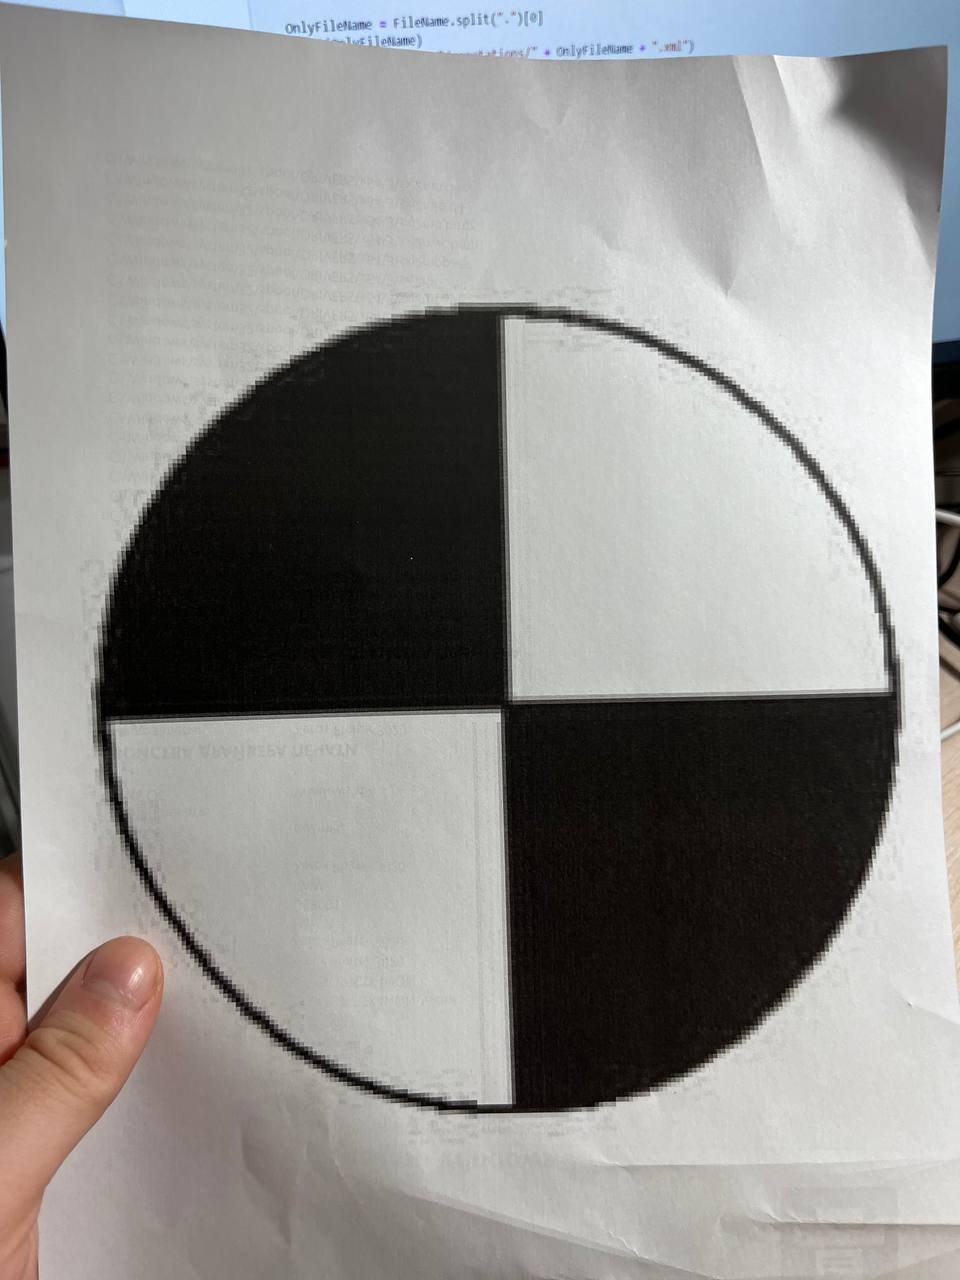pattern: (91, 299, 908, 1127)
